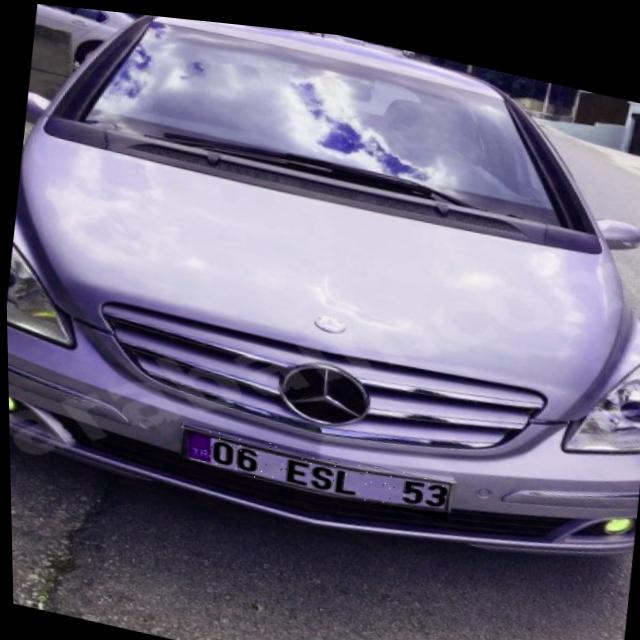license_plate: (177, 418, 449, 511)
